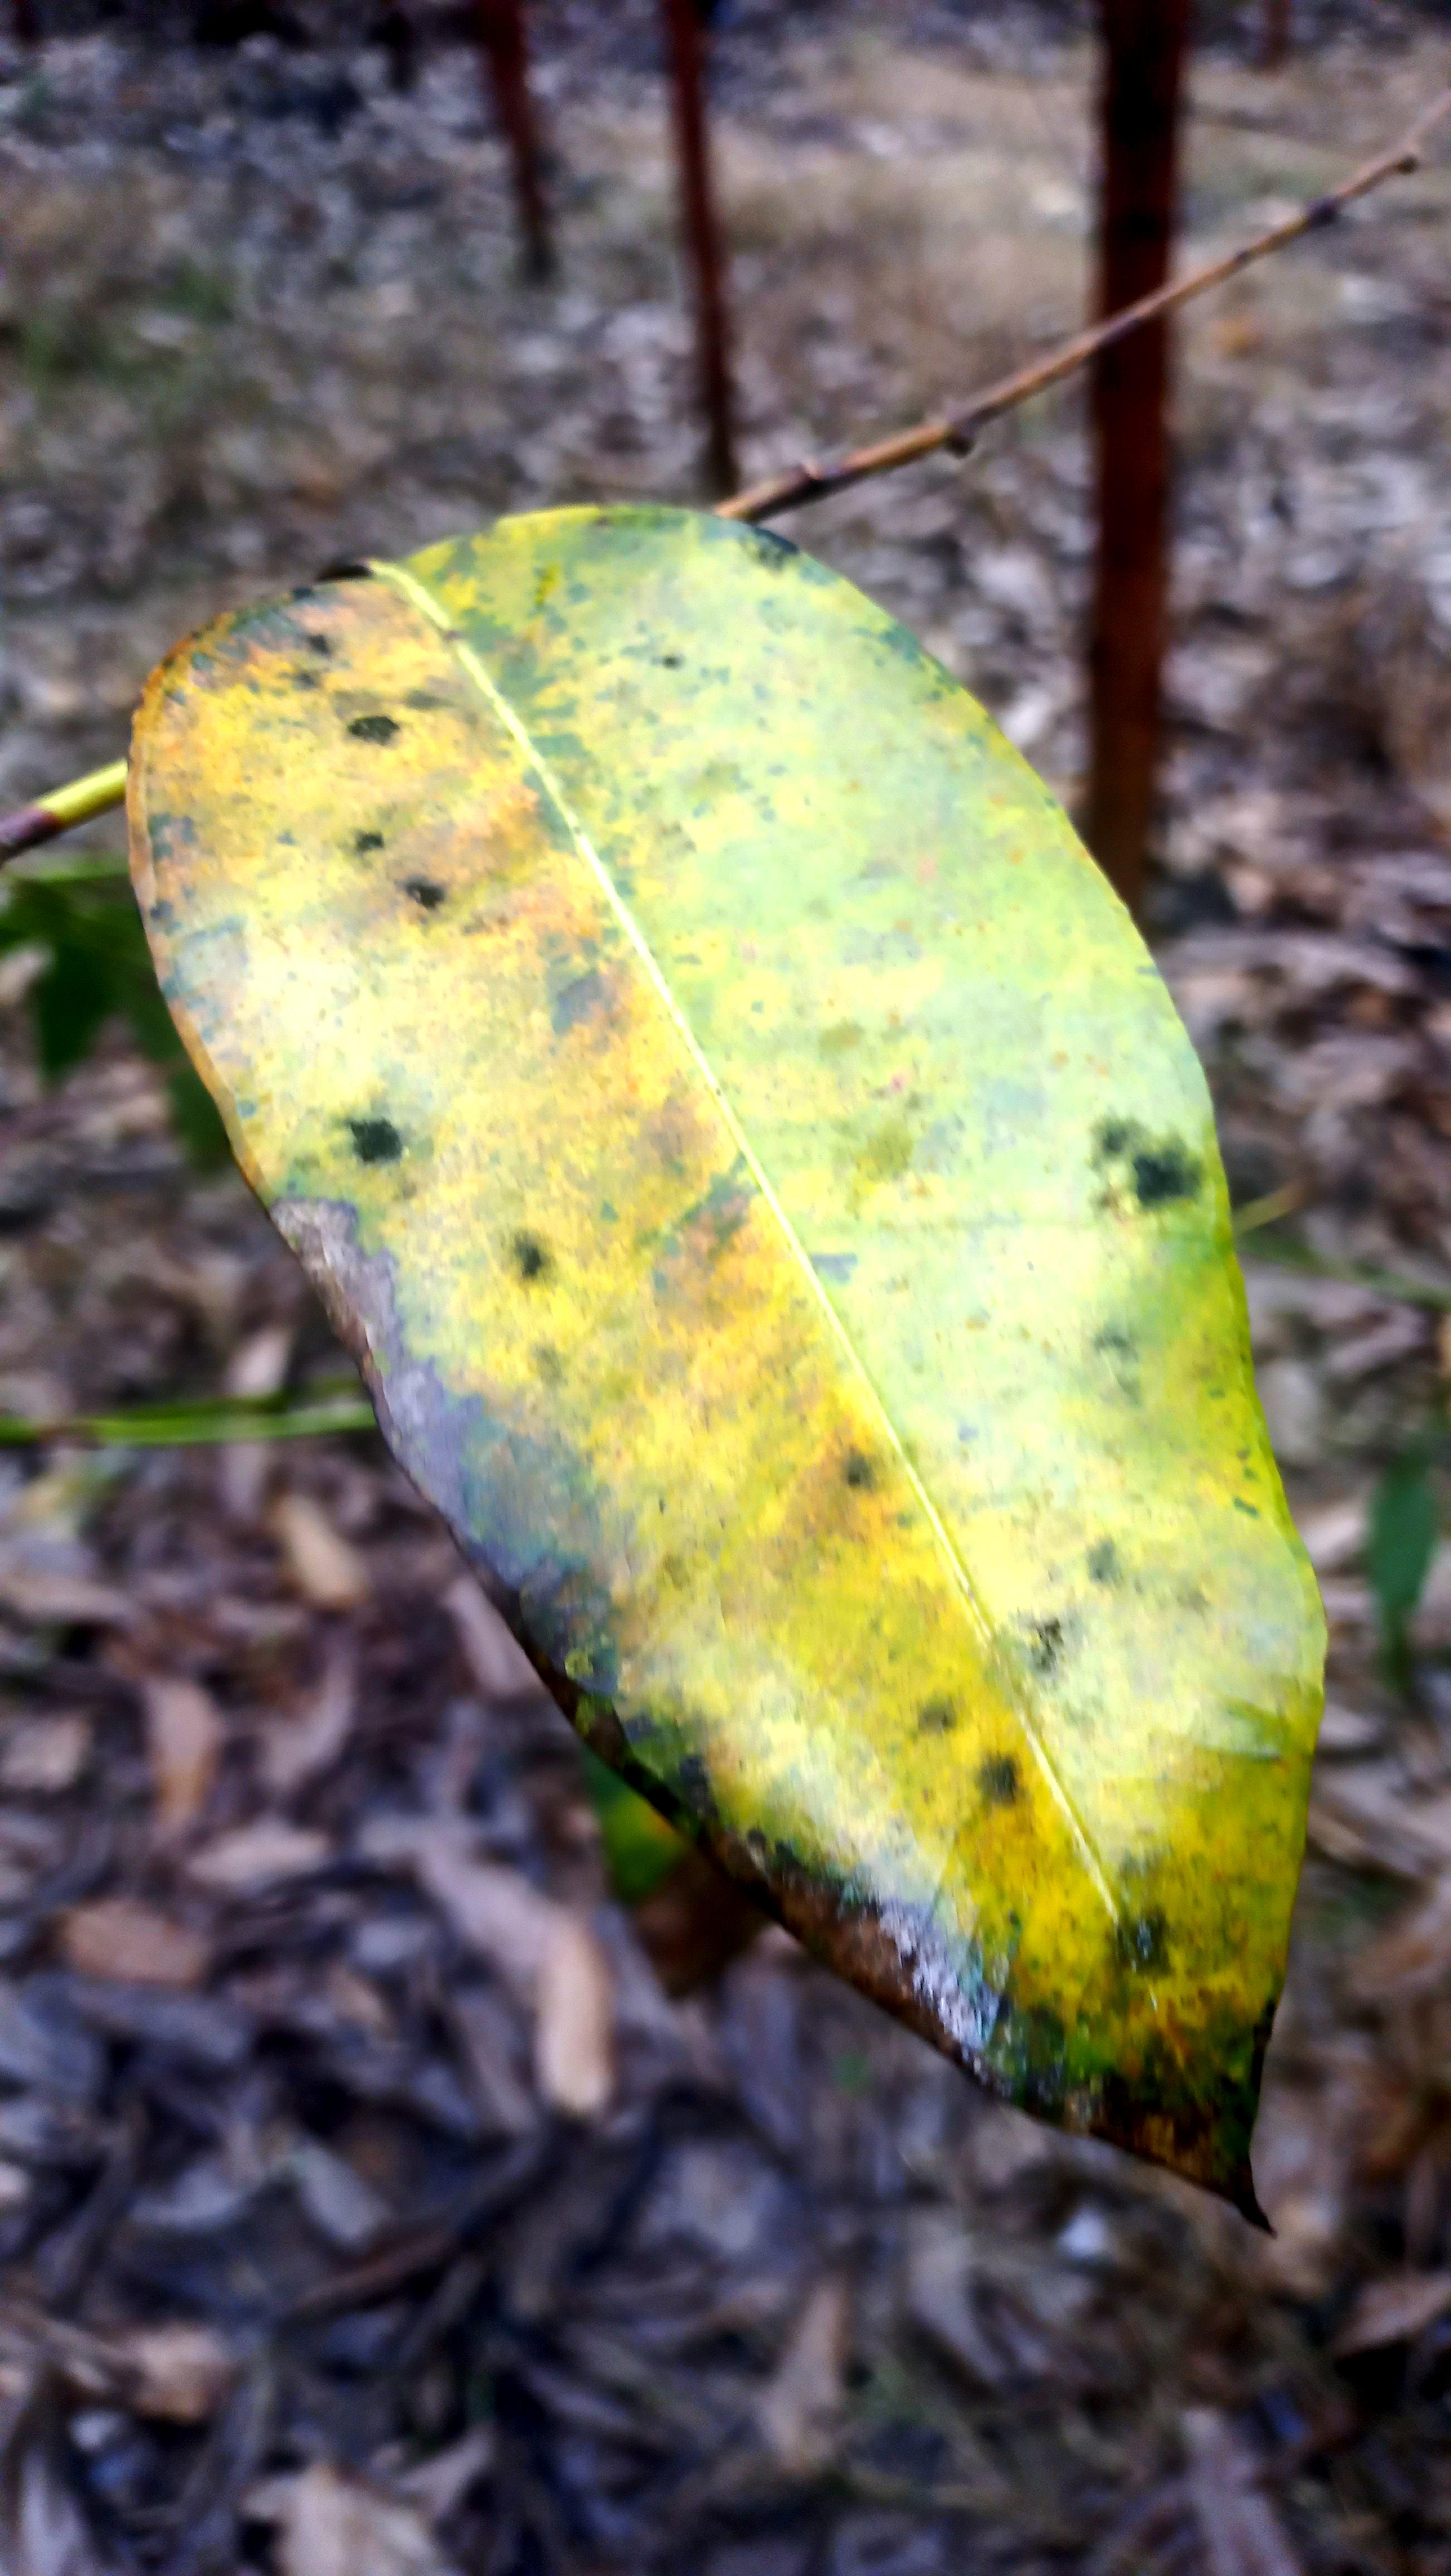Cylindrocladium: (234, 1178, 1306, 2242)
Embun Jelaga: (113, 478, 1357, 2254)
